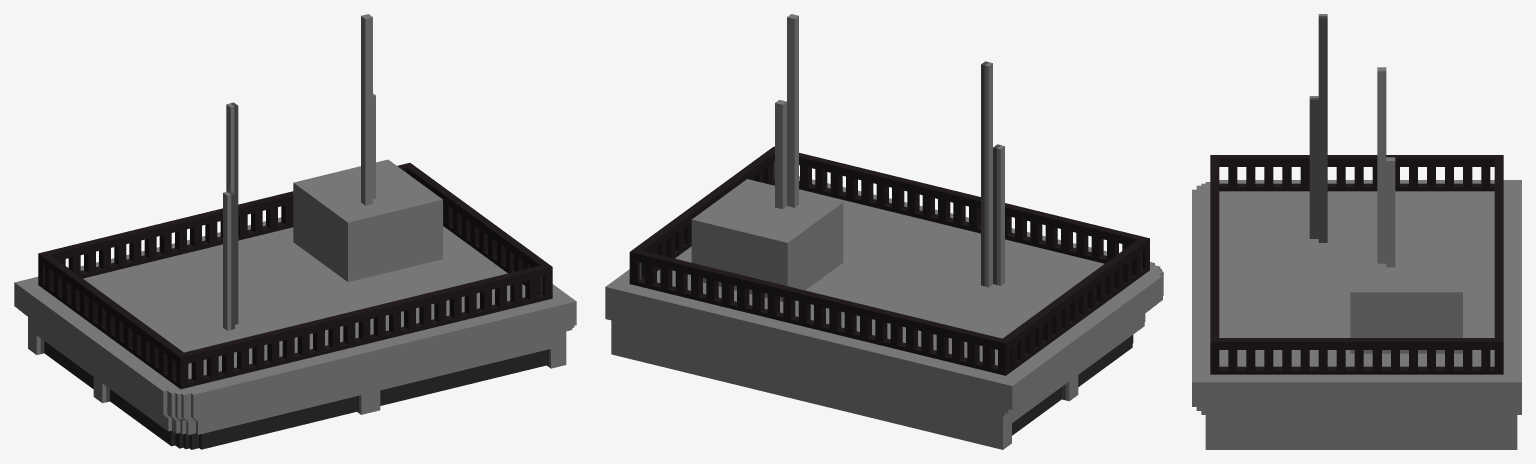
Rendered from Map3 (p1)-1.obj.
The picture shows the model from 3 angles, left to right: view 1: azimuth 30°, elevation 25°; view 2: azimuth 150°, elevation 25°; view 3: azimuth 270°, elevation 25°; orthographic projection. The views are drawn at different scales.
Size of the model in its own units: 10.6 by 7.9 by 7.3.
Materials: 1 (1 with a texture image).
